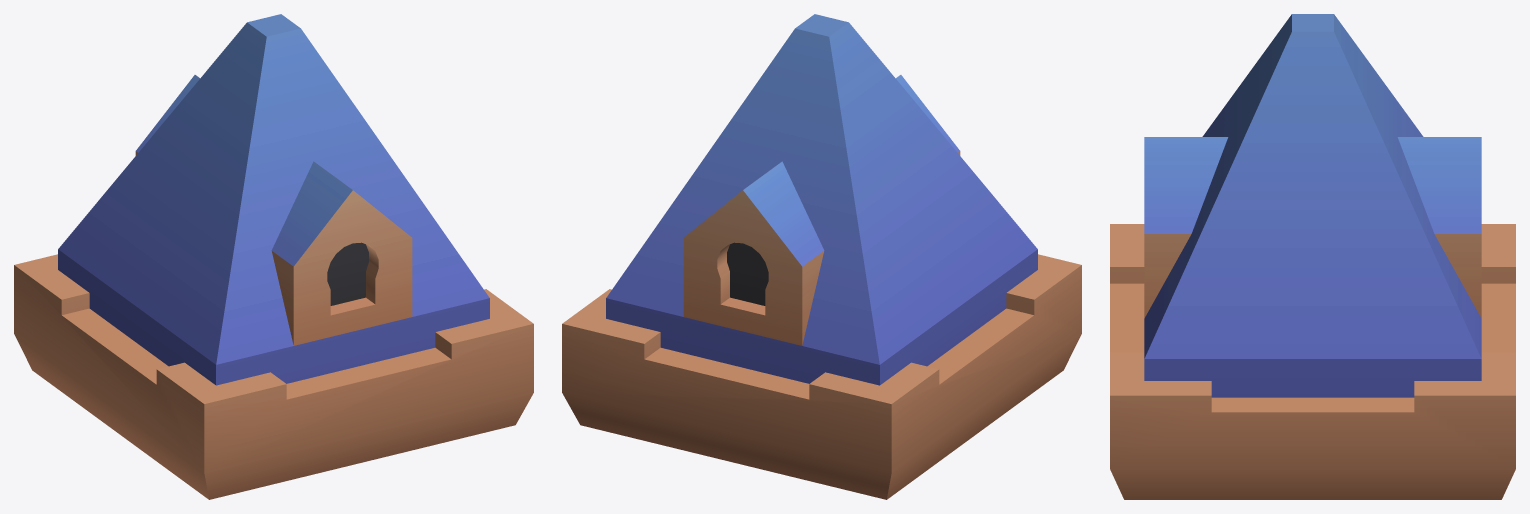
The model's file is tower-square-top-roof-high-windows.glb.
The picture shows the model from 3 angles, left to right: view 1: azimuth 30°, elevation 25°; view 2: azimuth 150°, elevation 25°; view 3: azimuth 270°, elevation 25°; orthographic projection. The views are drawn at different scales.
Visible parts, largest first — view 1: tower-square-top-roof-high-windows; view 2: tower-square-top-roof-high-windows; view 3: tower-square-top-roof-high-windows.
Boxes of the visible parts, x1=… form: tower-square-top-roof-high-windows: x1=14, y1=14, x2=533, y2=499; tower-square-top-roof-high-windows: x1=562, y1=14, x2=1081, y2=499; tower-square-top-roof-high-windows: x1=1110, y1=14, x2=1515, y2=499.
Size of the model in its own units: 1 by 1.08 by 1.
1 material, 1 textured.
